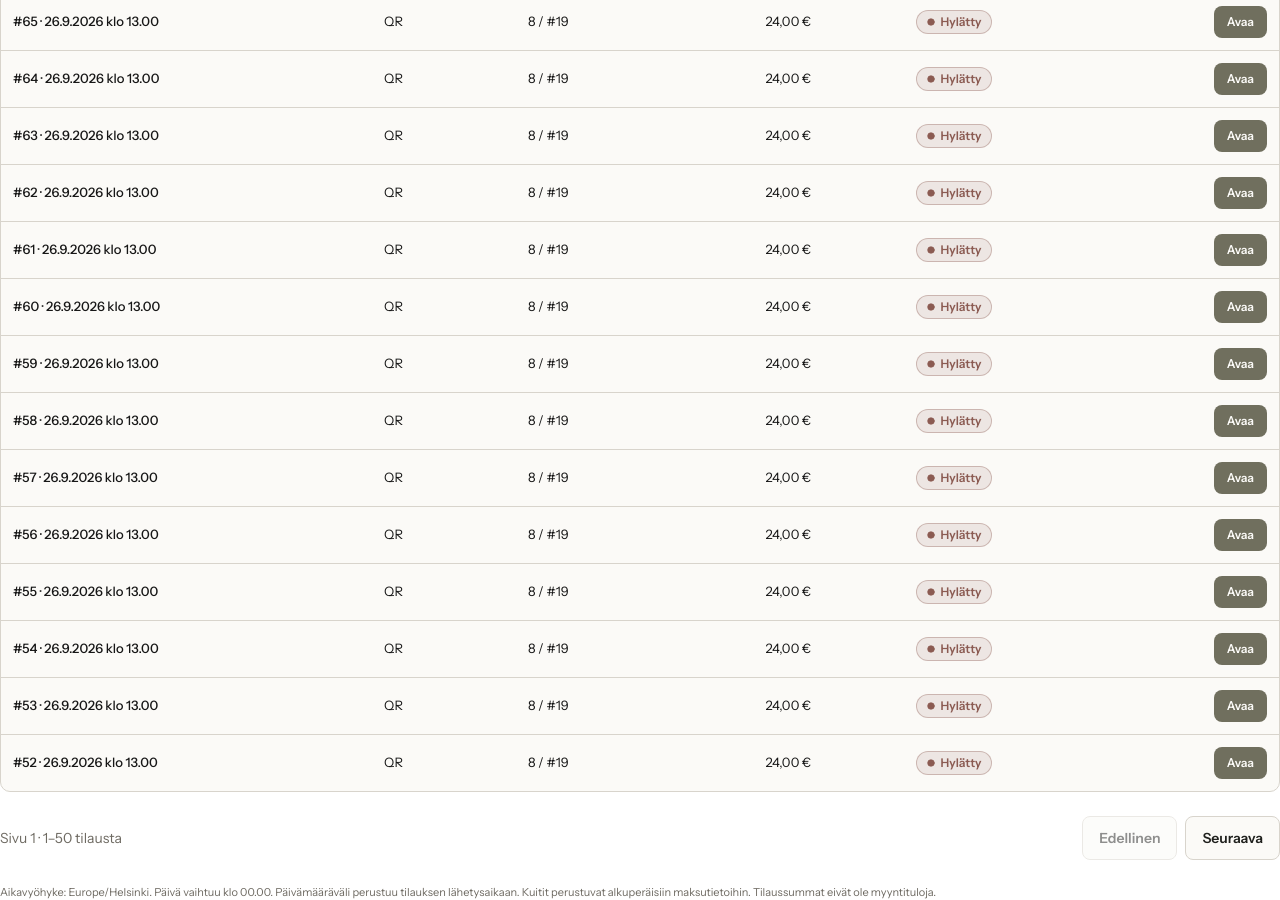
HIS-01 Order records › bounds history rows, opens the last-page order and resets after filtering
The width and height of the screenshot is (1280, 900).
(page scrolled)
Expected: the text "Sivu 1 · 1–50 tilausta" is shown, [0,828,122,848]
Step 1. Click the button "Seuraava" → (1233, 838), box [1186,816,1279,860]
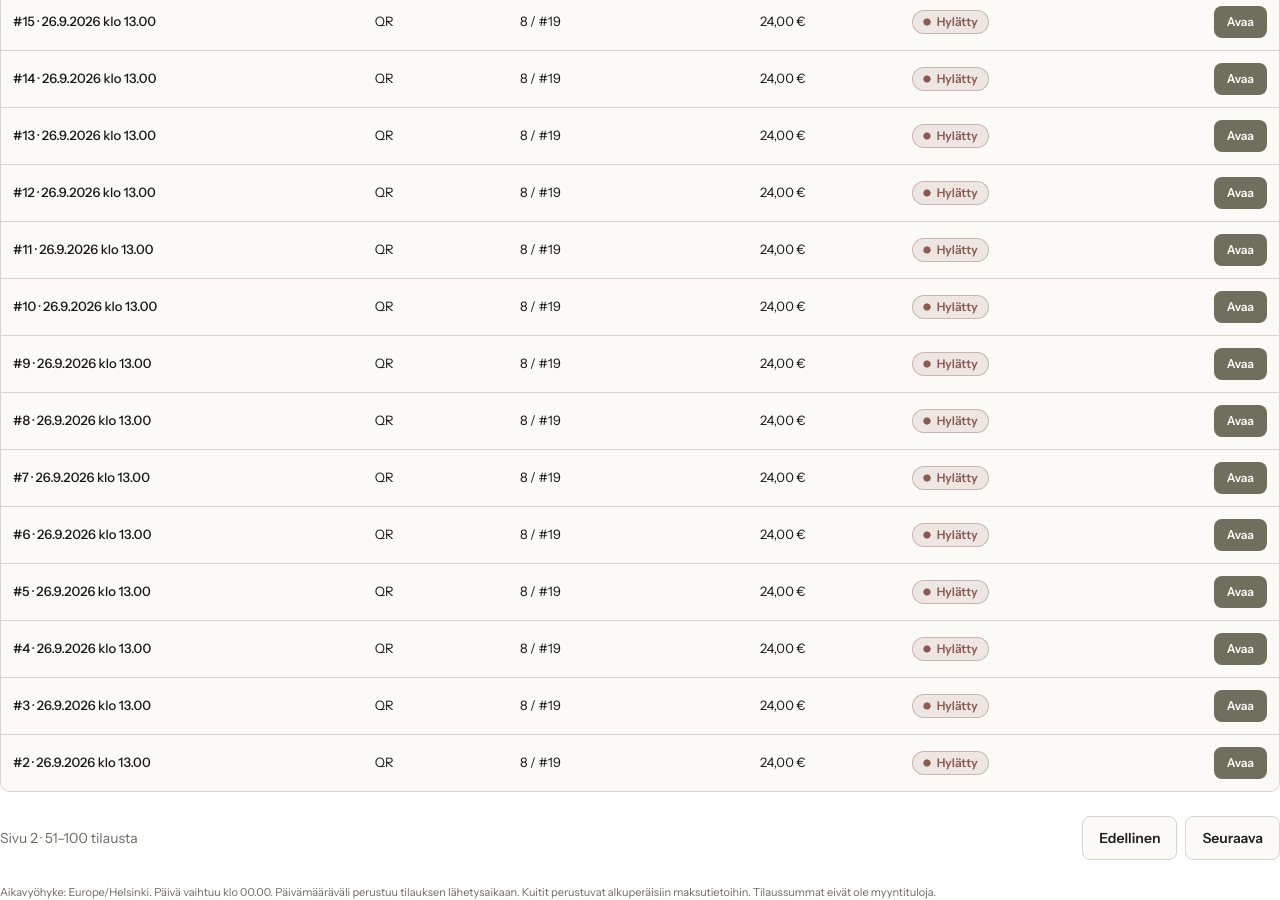
Expected: the text "Sivu 2 · 51–100 tilausta" is shown, [0,828,138,848]
Step 2. Click the button "Seuraava" → (1233, 838), box [1186,816,1279,860]
(page scrolled)
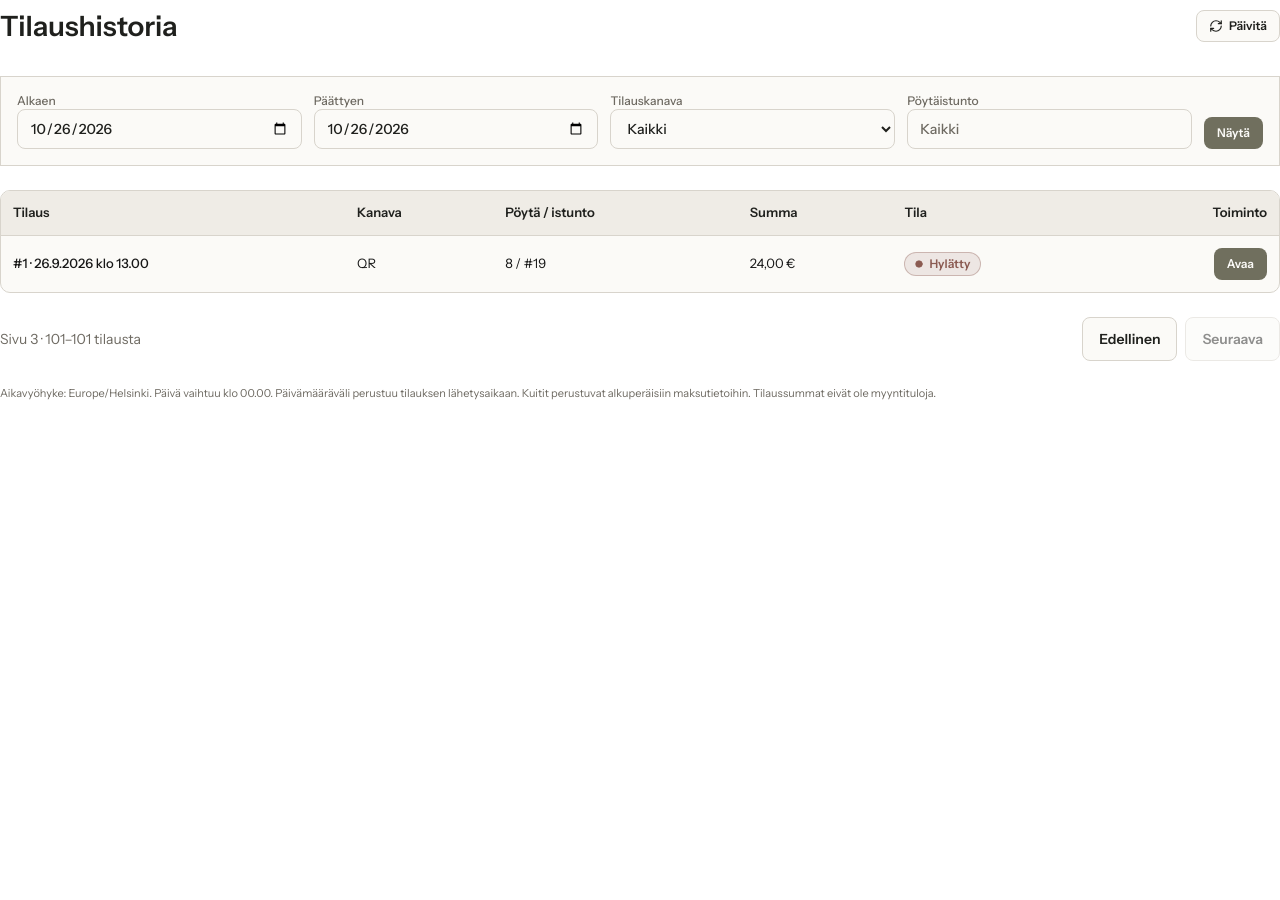
Expected: the text "Sivu 3 · 101–101 tilausta" is shown, [0,328,141,348]
Expected: the number of buttons "Avaa" is 1
Step 3. Click the button "Avaa" → (1240, 264), box [1214,248,1267,280]
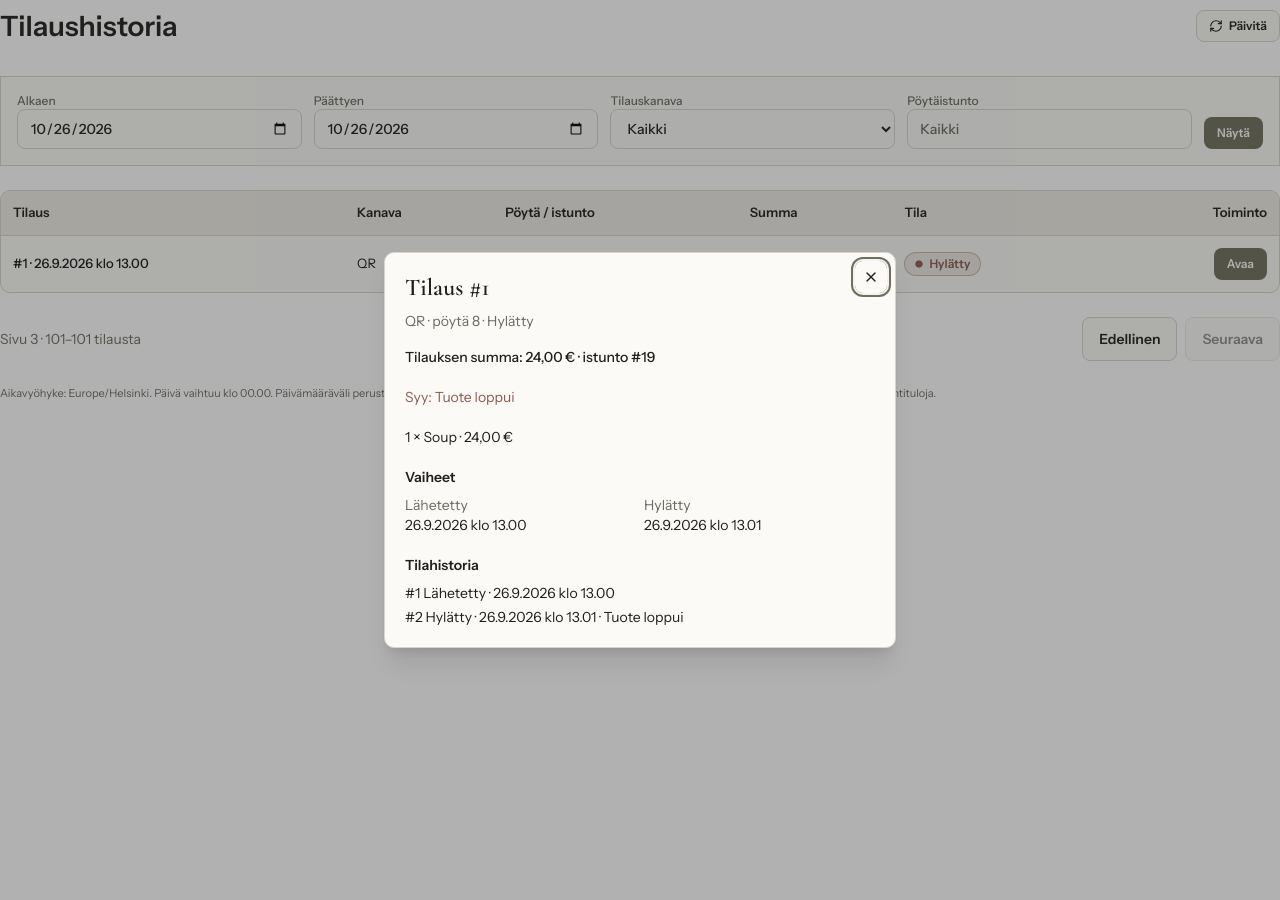
Expected: the text "Tilauksen summa:" is shown, [405,348,525,366]
Step 4. Click the button named "Sulje" → (871, 277), box [855,261,887,293]
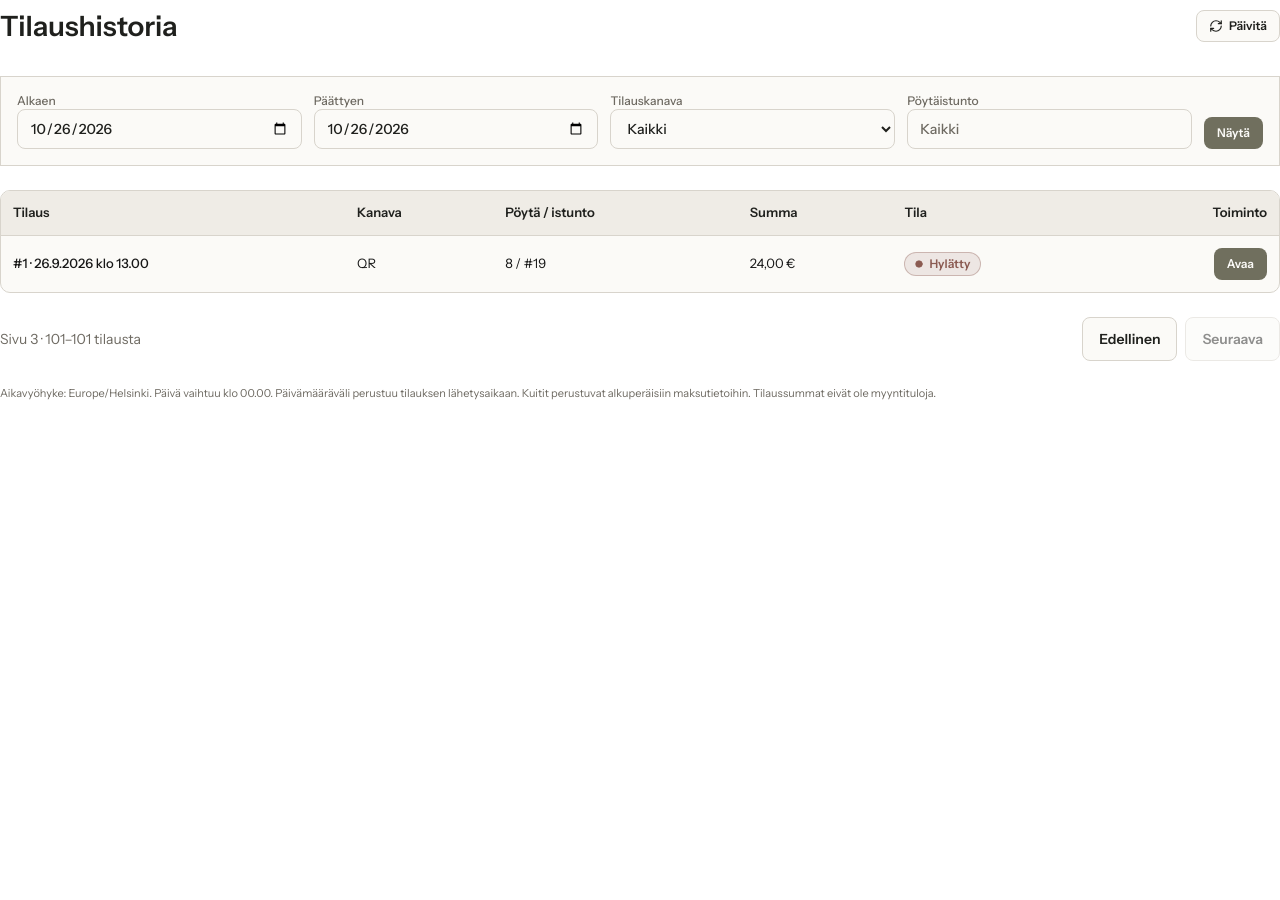
Step 5. Select "QR" in the dropdown labelled "Tilauskanava" → (753, 129), box [610,109,895,149]
(page scrolled)
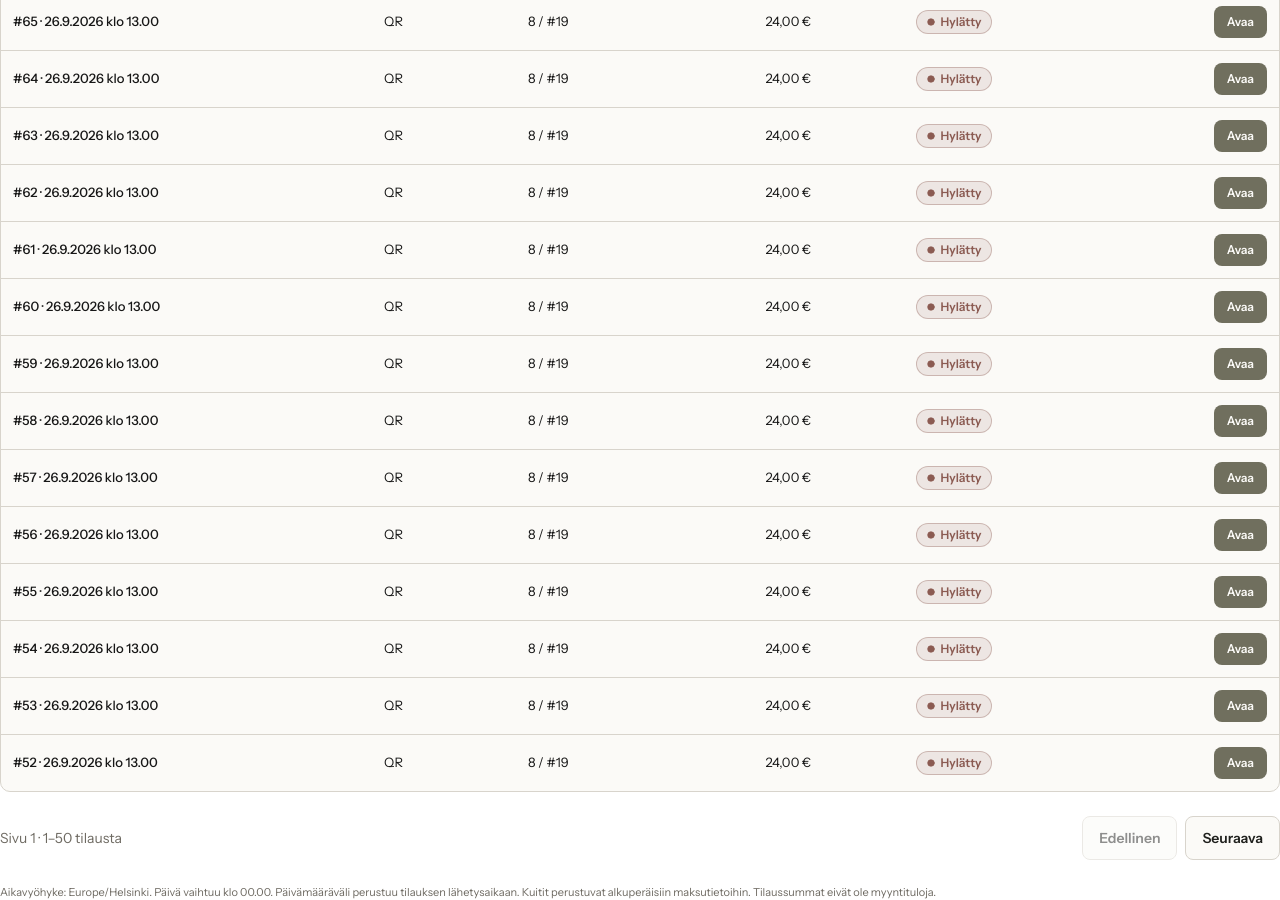
Expected: the text "Sivu 1 · 1–50 tilausta" is shown, [0,828,122,848]
